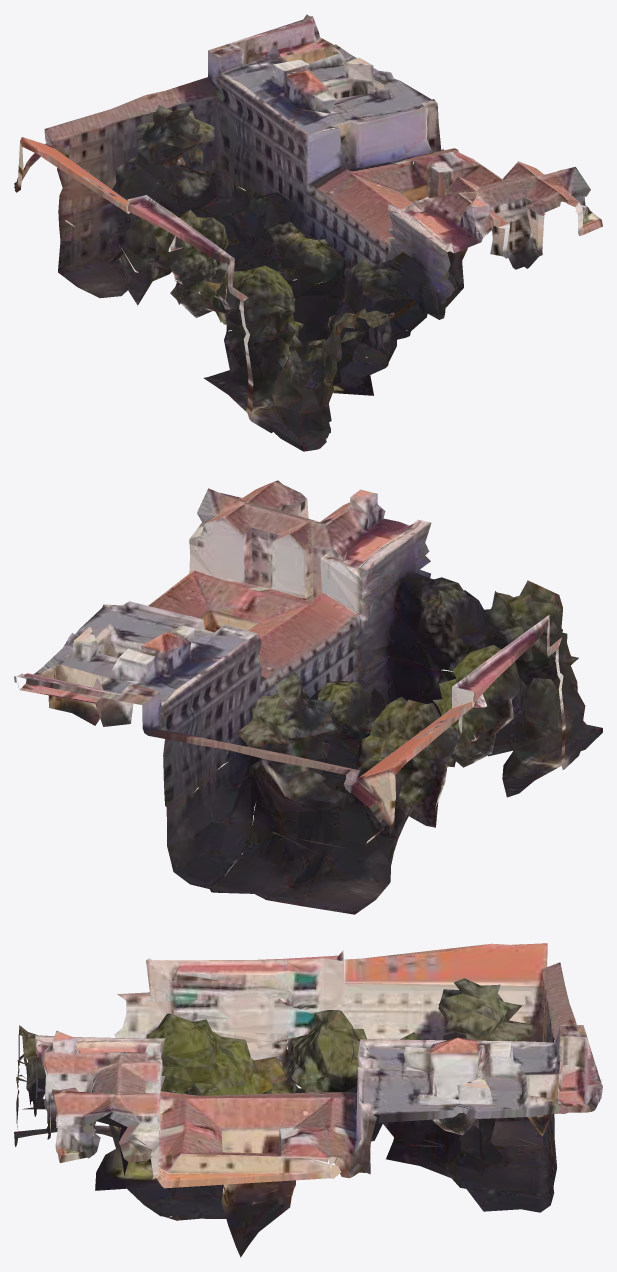
3 renders of one model, top to bottom at view 1: azimuth 30°, elevation 25°; view 2: azimuth 150°, elevation 25°; view 3: azimuth 270°, elevation 25°, orthographic. The views are drawn at different scales.
Visible parts, largest first — view 1: Mesh_0; view 2: Mesh_0; view 3: Mesh_0.
Boxes of the visible parts, bbox=[...] form: Mesh_0: bbox=[14, 14, 602, 451]; Mesh_0: bbox=[14, 480, 602, 914]; Mesh_0: bbox=[14, 943, 602, 1257].
Size of the model in its own units: 66.62 by 32.6 by 82.52.
1 material, 1 textured.
